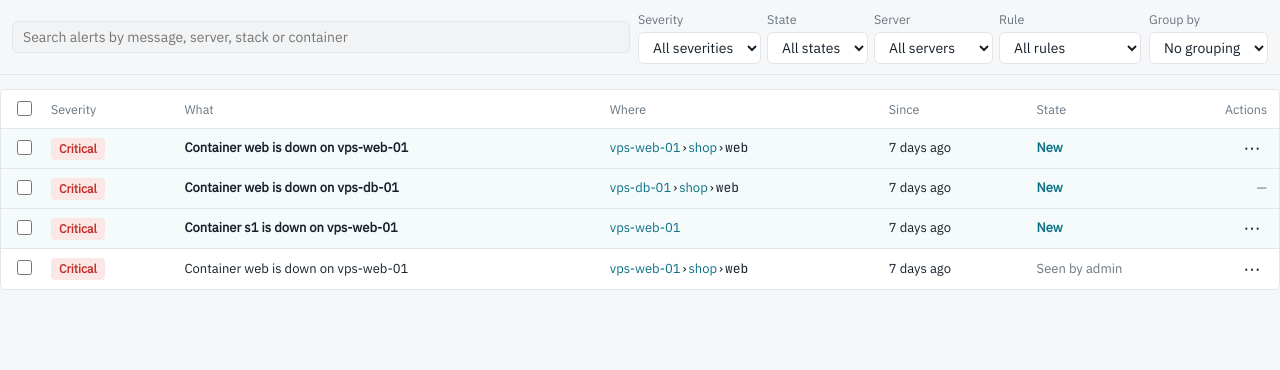
Test case: Inbox › separates the reasons why selected alerts cannot be processed
Click the checkbox named "Select all". click: (24, 109)
box: [17,101,32,116]
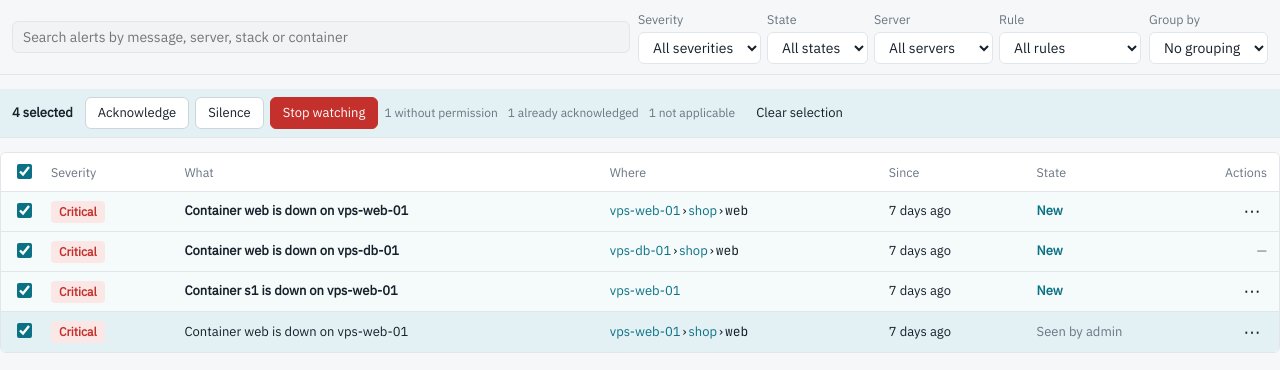
Expected: the text "1 without permission" is shown, [384,104,498,122]
Expected: the text "1 already acknowledged" is shown, [508,104,639,122]
Expected: the text "1 not applicable" is shown, [649,104,735,122]
